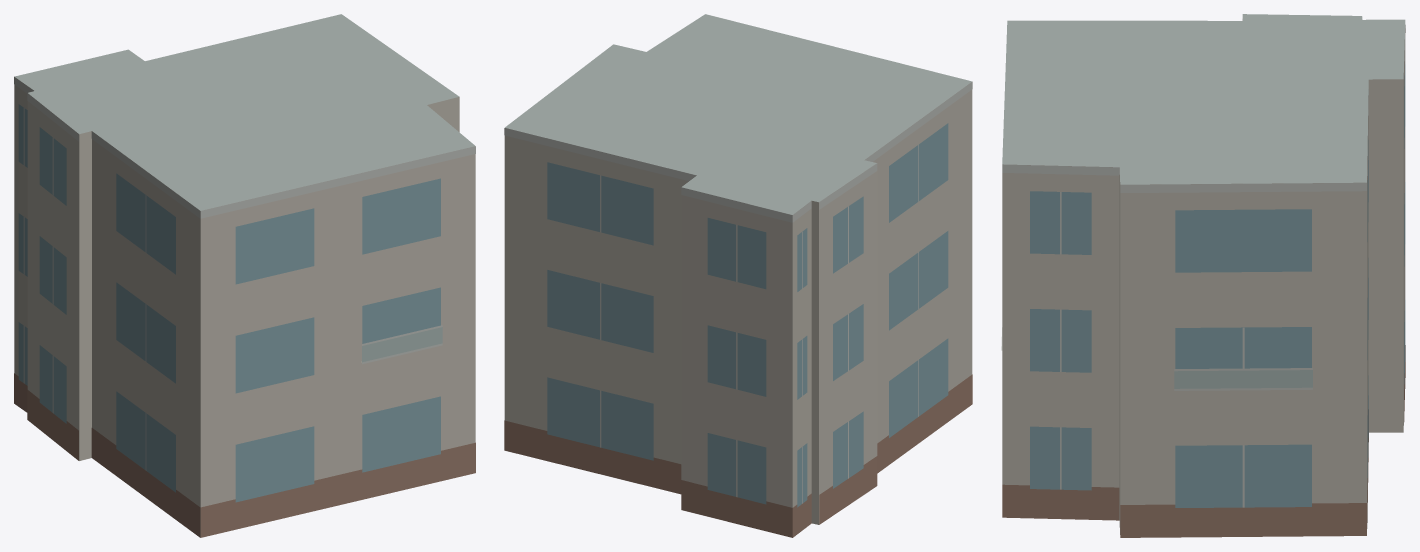
Rendered from survey-upis-32666328.glb.
3 renders of one model, left to right at view 1: azimuth 30°, elevation 25°; view 2: azimuth 150°, elevation 25°; view 3: azimuth 270°, elevation 25°, orthographic. The views are drawn at different scales.
Visible parts, largest first — view 1: survey-upis-32666328.tmp; view 2: survey-upis-32666328.tmp; view 3: survey-upis-32666328.tmp.
Boxes of the visible parts, x1,y1,x2,y2 form: survey-upis-32666328.tmp: (14,14,475,537); survey-upis-32666328.tmp: (504,14,972,537); survey-upis-32666328.tmp: (1001,14,1405,537).
Size of the model in its own units: 10.59 by 10.2 by 10.58.
